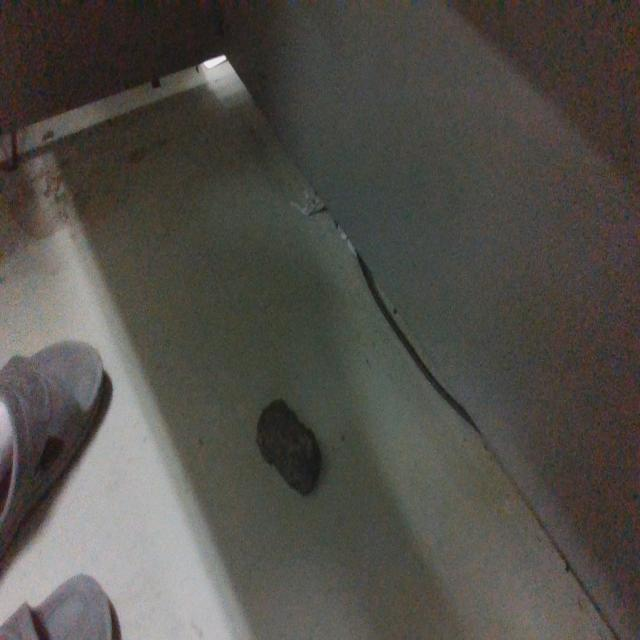stone: (256, 396, 324, 496)
